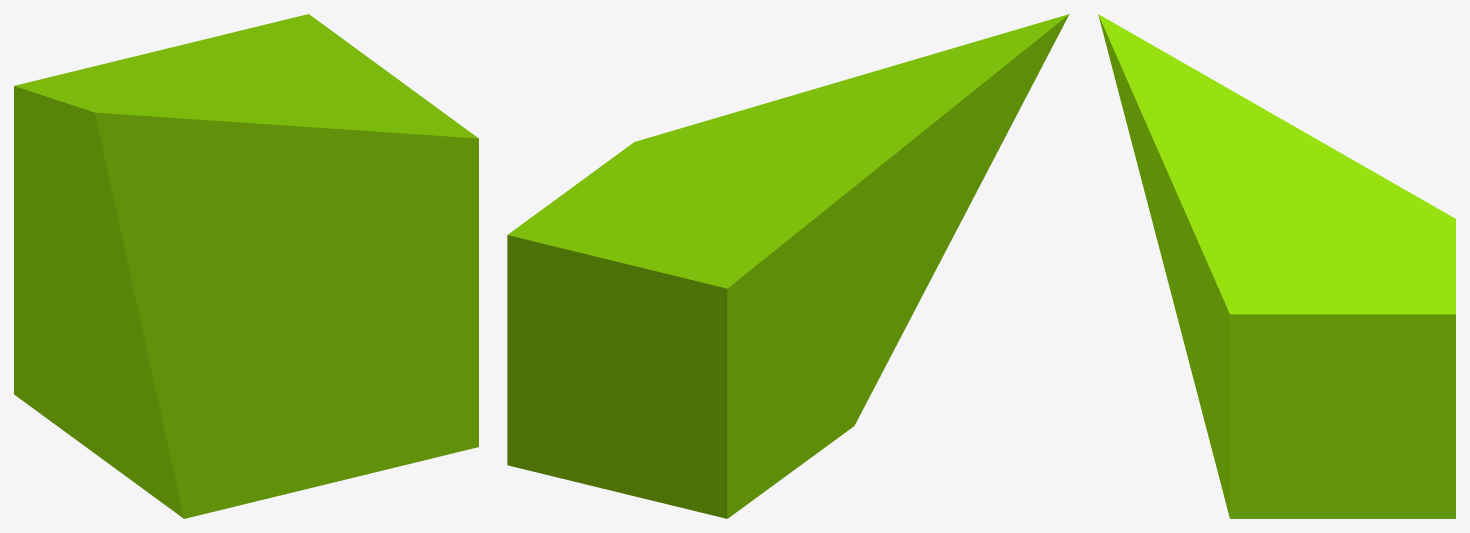
3 views of the same model, side by side, from view 1: azimuth 30°, elevation 25°; view 2: azimuth 150°, elevation 25°; view 3: azimuth 270°, elevation 25° (orthographic). The views are drawn at different scales.
Parts seen in each view (by area): view 1: Cube; view 2: Cube; view 3: Cube.
Boxes of the visible parts, x1,y1,x2,y2 form: Cube: (14,14,478,518); Cube: (507,14,1069,518); Cube: (1098,14,1455,518).
Size of the model in its own units: 3.28 by 3.4 by 3.17.
